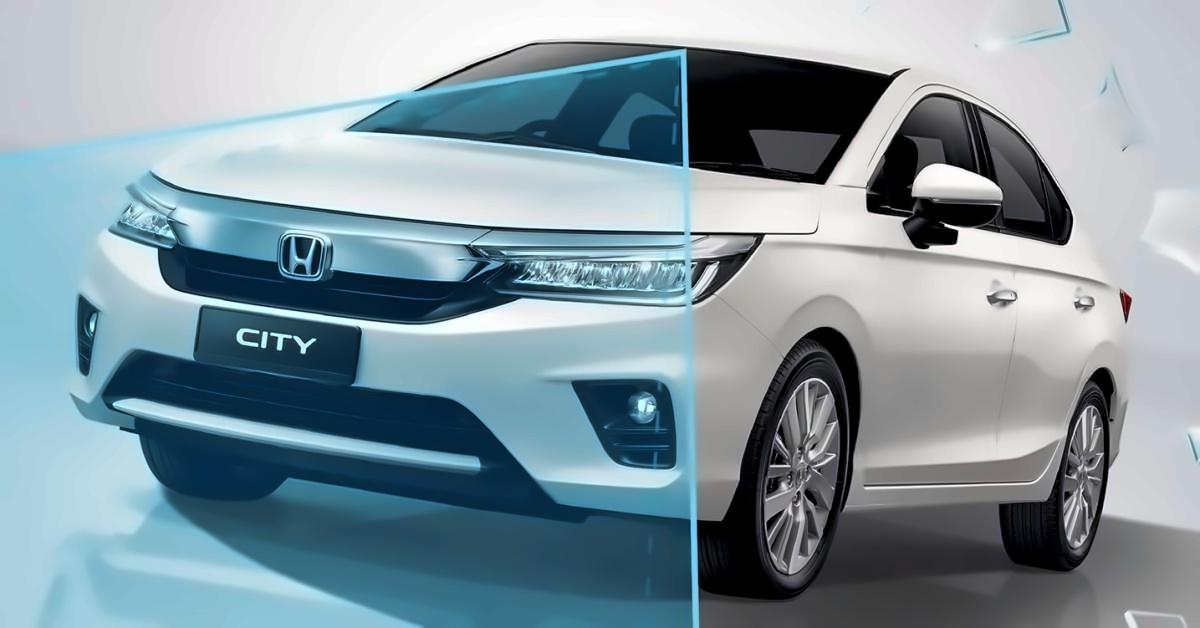Car hood: (136, 118, 837, 238)
Fender - -F-L-: (701, 178, 874, 528)
Fender - -R-L-: (1036, 311, 1125, 500)
Front bumper: (63, 257, 759, 547)
Headlight - -L-: (478, 228, 728, 314)
Headlight - -R-: (86, 170, 204, 260)
Passenger-s door - -F-L-: (840, 62, 1014, 483)
Passenger-s door - -R-L-: (972, 96, 1116, 492)
Rear bumper: (1092, 394, 1166, 472)
Rear light - -L-: (1110, 262, 1161, 329)
Side bumper - -L-: (810, 458, 1077, 522)
Side mirror - -L-: (884, 154, 1014, 245)
